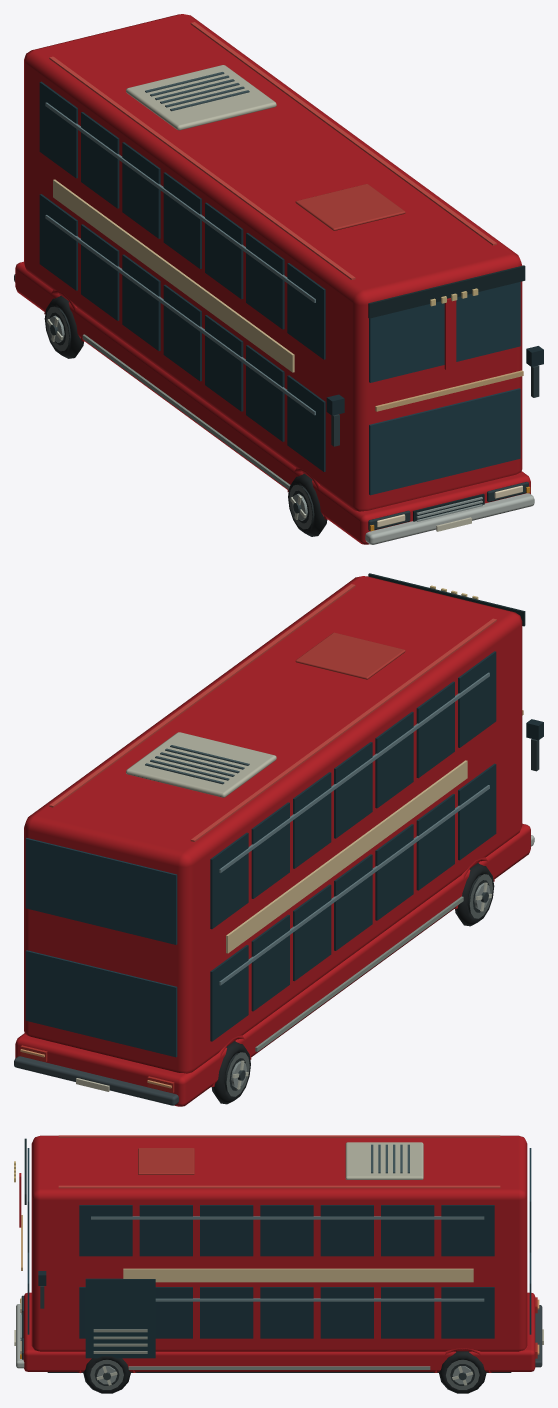
Rendered from doubledecker.glb.
3 views of the same model, one above another, from view 1: azimuth 30°, elevation 25°; view 2: azimuth 150°, elevation 25°; view 3: azimuth 270°, elevation 25° (orthographic). The views are drawn at different scales.
Visible parts, largest first — view 1: doubledecker_body; view 2: doubledecker_body; view 3: doubledecker_body.
Part boxes in pixels (x1,y1,x2,y2): doubledecker_body: [14, 14, 543, 544]; doubledecker_body: [14, 573, 543, 1106]; doubledecker_body: [14, 1135, 543, 1393].
Size of the model in its own units: 2.92 by 3.7 by 8.66.
